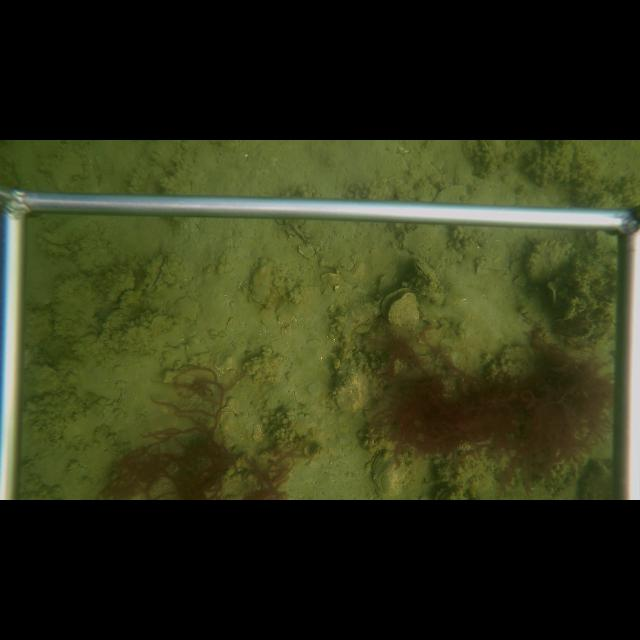Oyster-Closed: (371, 448, 415, 498), (410, 254, 443, 289), (249, 263, 275, 306)
Oyster-Open: (379, 286, 419, 329), (145, 252, 168, 294)
